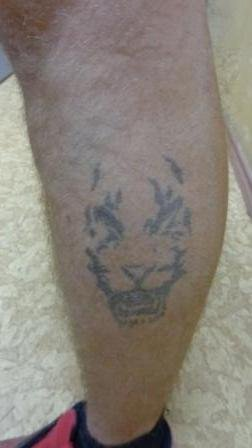tatu5_tigr: (59, 140, 210, 352)
